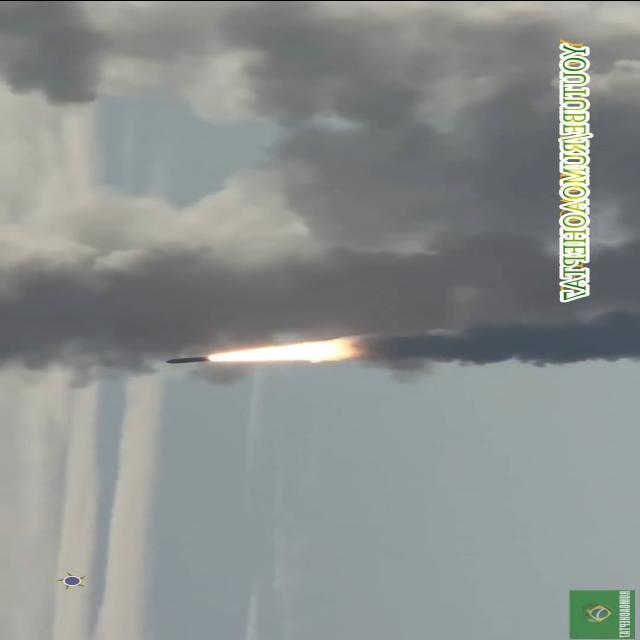Missile: (160, 351, 220, 367)
